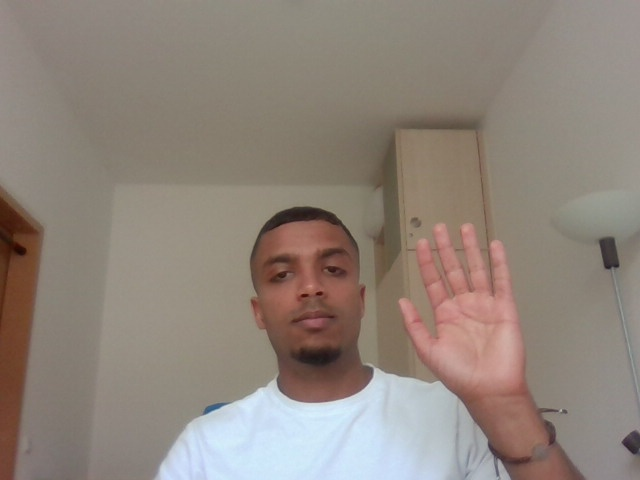never: (394, 214, 553, 424)
